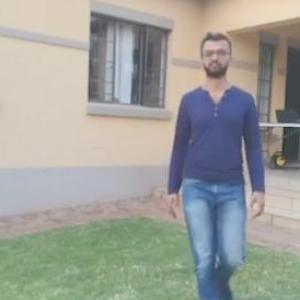follow: (168, 33, 270, 299)
